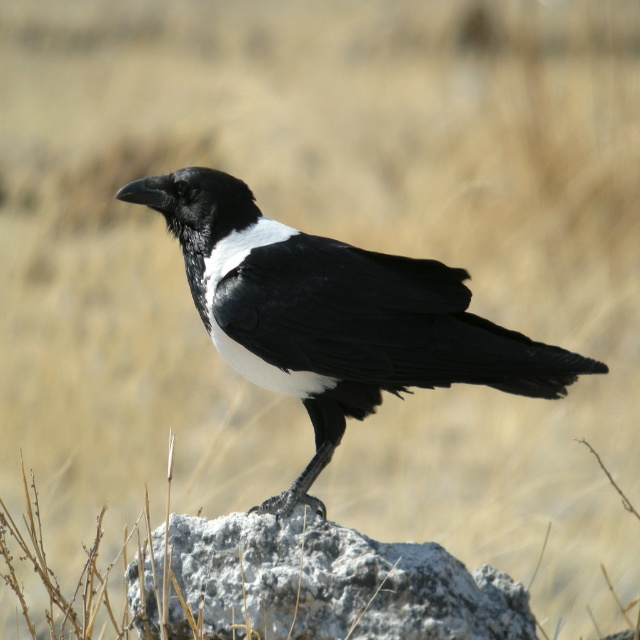Magpie: (116, 166, 608, 522)
